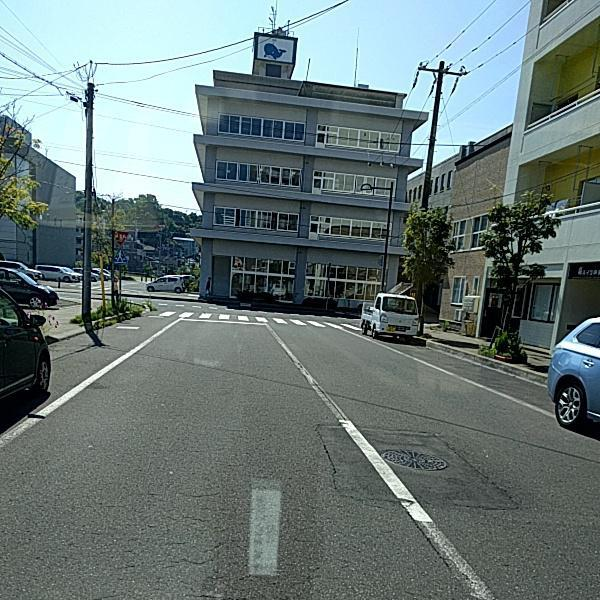D44: (266, 323, 489, 594)
D50: (382, 447, 451, 471)
